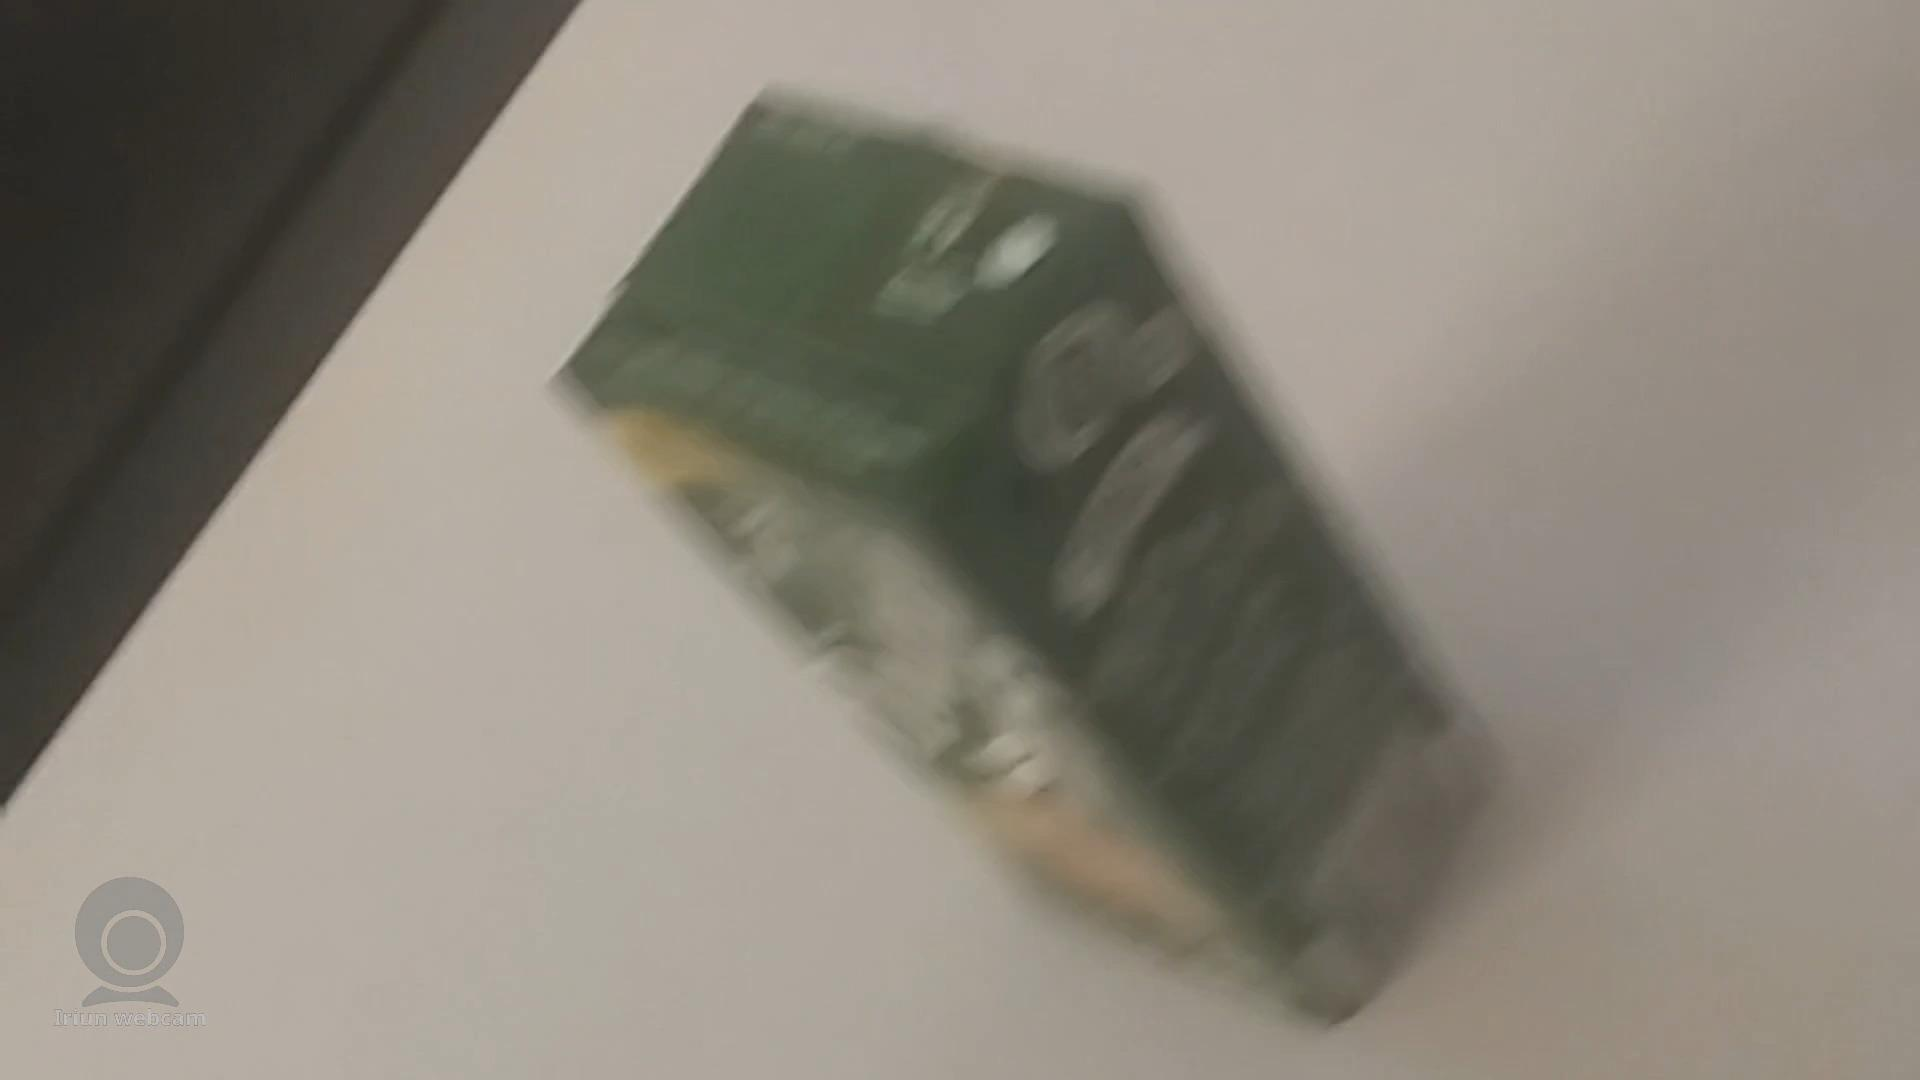coco: (563, 78, 1502, 1027)
